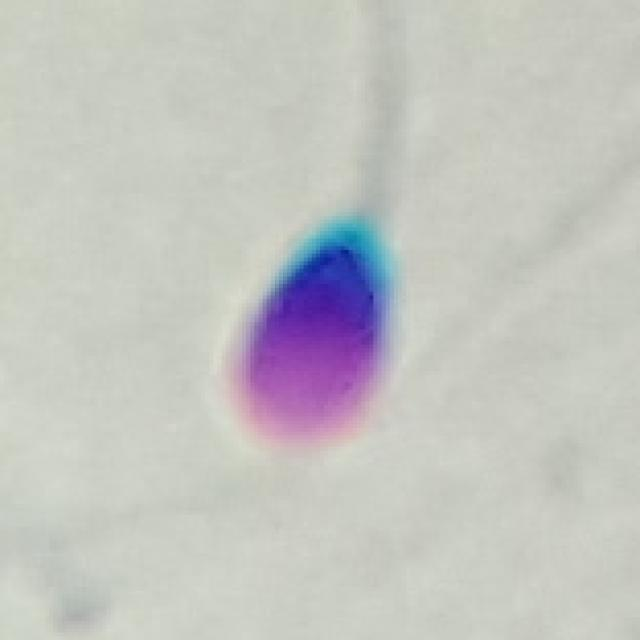normal sperm: (231, 130, 399, 454)
